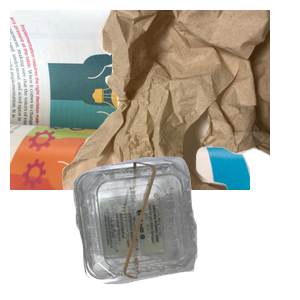glass: (73, 184, 214, 300)
paper: (10, 10, 250, 190)
plastic: (71, 154, 300, 300)
trash: (60, 10, 300, 190)
